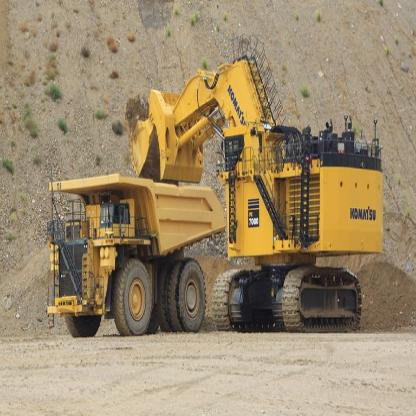dump_truck: (44, 170, 226, 358)
